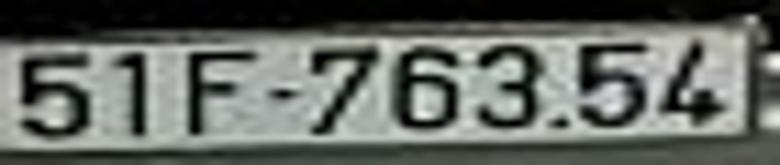-: (264, 84, 300, 100)
.: (549, 115, 568, 129)
1: (115, 51, 149, 136)
3: (481, 44, 539, 129)
4: (663, 42, 726, 130)
5: (19, 53, 91, 141), (579, 44, 645, 126)
6: (396, 45, 458, 128)
7: (309, 49, 380, 133)
F: (184, 51, 255, 135)
